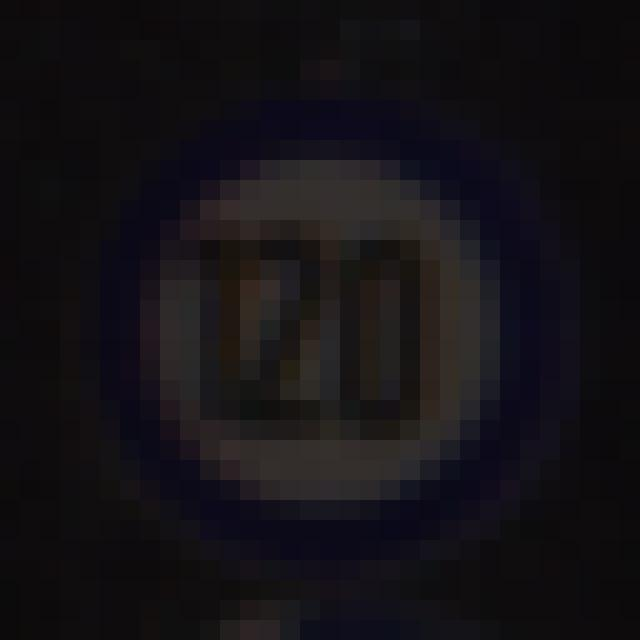SPEED LIMIT 120: (117, 139, 525, 507)
